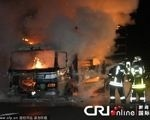fire: (20, 37, 51, 70)
